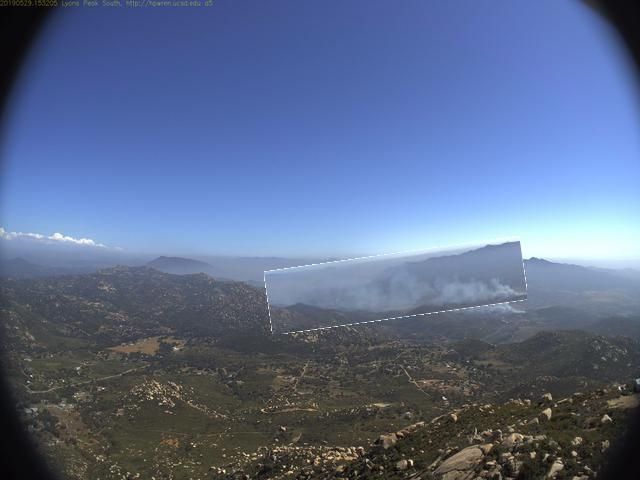smoke: (267, 246, 528, 328)
